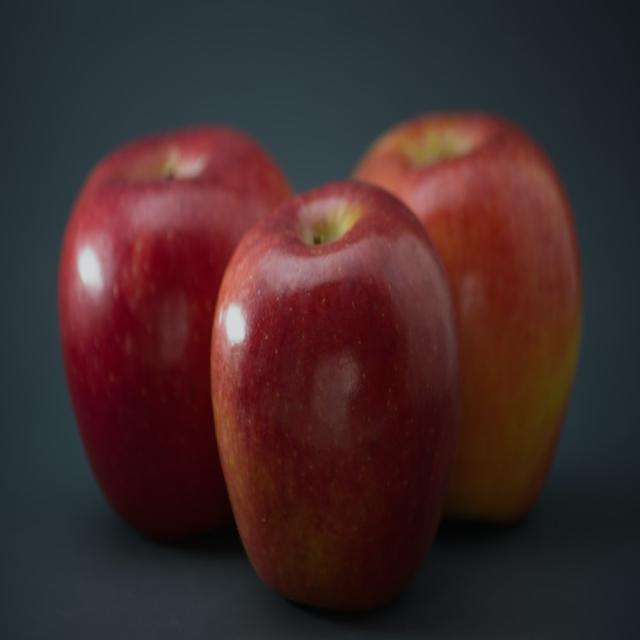apple: (210, 180, 458, 614)
